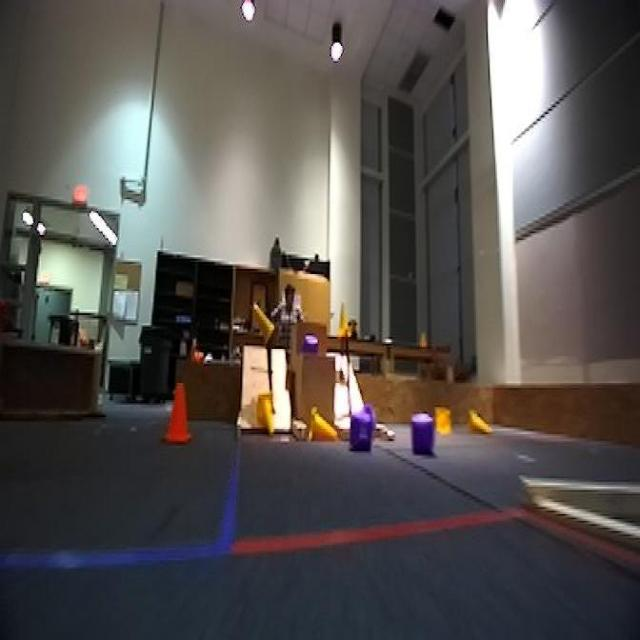frc_cone: (237, 288, 271, 347), (328, 293, 353, 340), (307, 409, 338, 444), (464, 410, 498, 441), (257, 390, 278, 439), (428, 400, 455, 422)
frc_cube: (352, 410, 376, 448), (410, 418, 432, 452), (303, 336, 322, 358)
